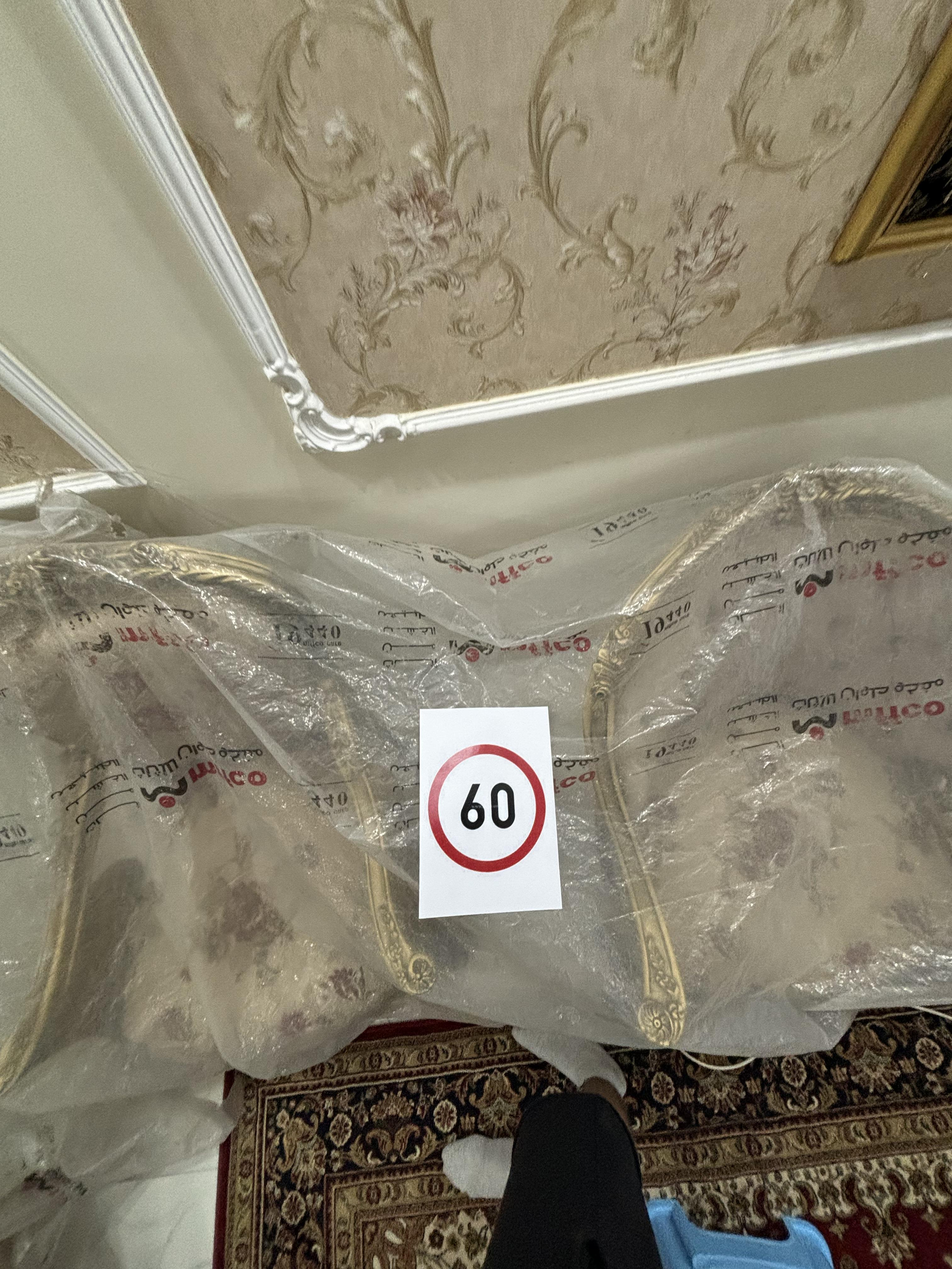60-Speed: (430, 745, 548, 873)
